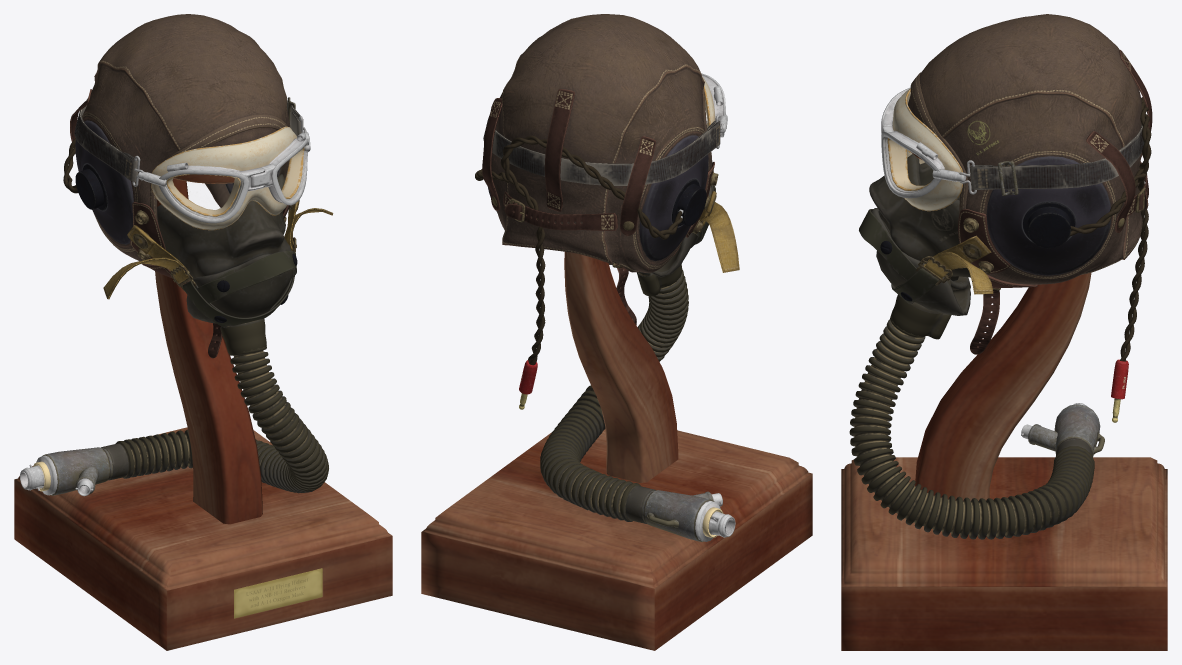
File: flight-helmet.glb
3 views of the same model, side by side, from view 1: azimuth 30°, elevation 25°; view 2: azimuth 150°, elevation 25°; view 3: azimuth 270°, elevation 25° (orthographic). The views are drawn at different scales.
Parts seen in each view (by area): view 1: RubberWood_low, LeatherParts_low, MetalParts_low, GlassPlastic_low, Hose_low; view 2: RubberWood_low, LeatherParts_low, Hose_low, MetalParts_low, GlassPlastic_low; view 3: RubberWood_low, LeatherParts_low, Hose_low, GlassPlastic_low, MetalParts_low.
Boxes of the visible parts, left/top/right/bottom form: RubberWood_low: left=14, top=100, right=392, bottom=650; LeatherParts_low: left=70, top=14, right=290, bottom=358; MetalParts_low: left=20, top=97, right=322, bottom=618; GlassPlastic_low: left=75, top=120, right=304, bottom=244; Hose_low: left=115, top=346, right=328, bottom=493; RubberWood_low: left=421, top=114, right=812, bottom=650; LeatherParts_low: left=482, top=14, right=714, bottom=325; Hose_low: left=540, top=270, right=688, bottom=521; MetalParts_low: left=492, top=73, right=735, bottom=541; GlassPlastic_low: left=487, top=76, right=715, bottom=261; RubberWood_low: left=841, top=97, right=1167, bottom=650; LeatherParts_low: left=908, top=14, right=1152, bottom=354; Hose_low: left=849, top=317, right=1094, bottom=539; GlassPlastic_low: left=887, top=88, right=1110, bottom=275; MetalParts_low: left=880, top=87, right=1146, bottom=457.
Size of the model in its own units: 0.3666 by 0.716 by 0.3716.
Materials: 6 (6 with a texture image).
